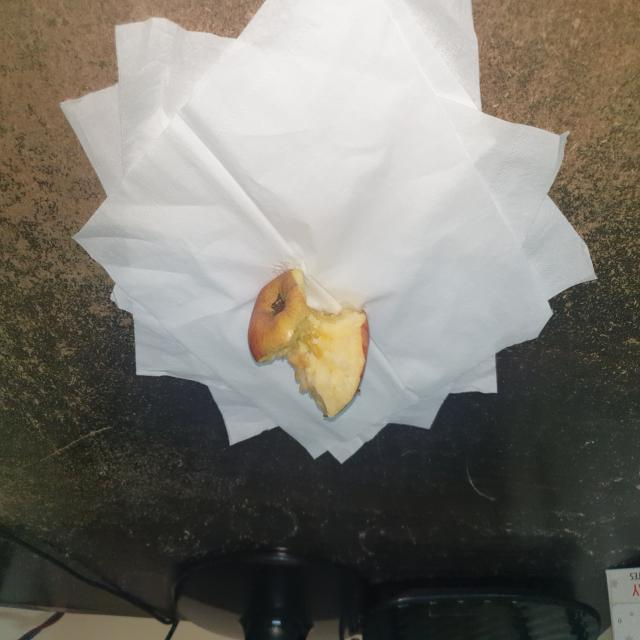apple: (241, 267, 373, 427)
